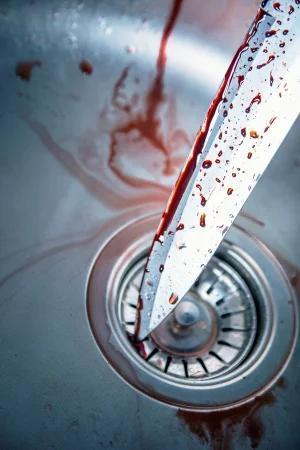Fire: (136, 0, 300, 340), (110, 0, 192, 188), (16, 61, 40, 80)
